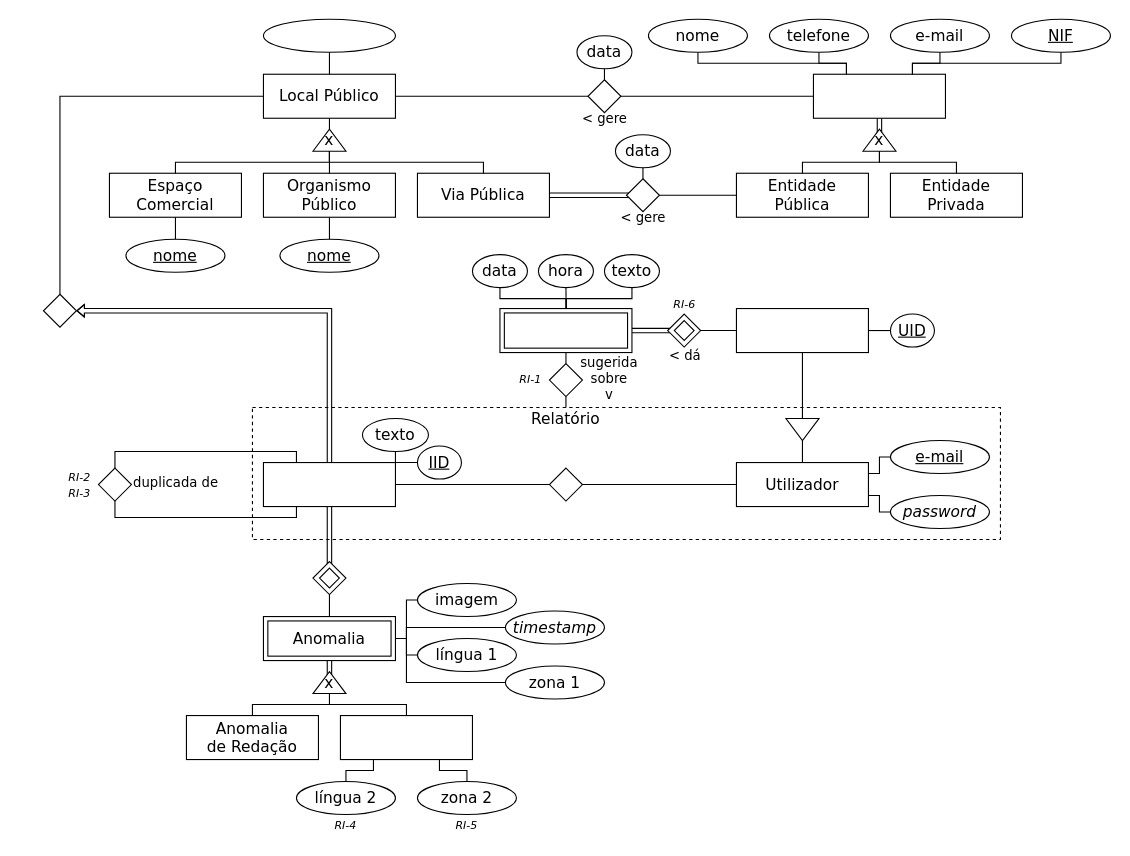
Some shapes in this 1130 by 856 pixel diagram are drawn without their labels. Here are the shapes that lost their labels. From the top down, the centre of each, then its label:
At (x=328, y=35): "coordenadas".
At (x=878, y=95): "Entidade Responsável".
At (x=59, y=310): "< ocorre em".
At (x=565, y=330): "Sugestão".
At (x=801, y=330): "Utilizador Certificado".
At (x=328, y=484): "Incindência".
At (x=565, y=484): "< reporta".
At (x=329, y=577): "possui v".
At (x=405, y=737): "Anomalia de Tradução".
